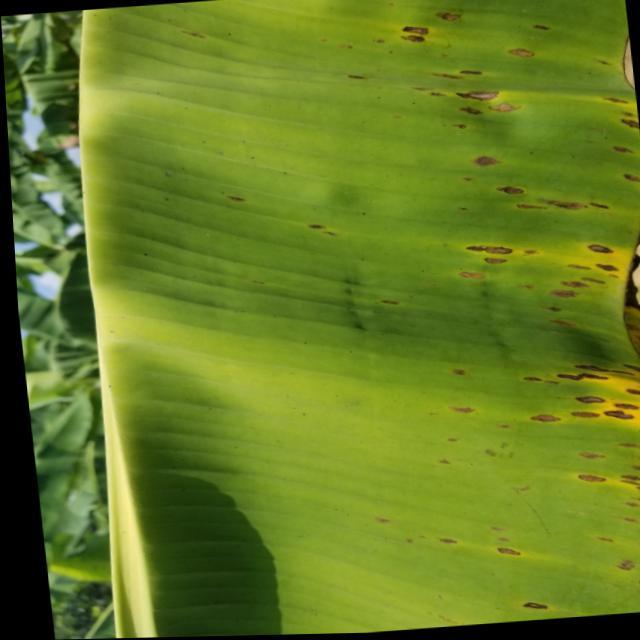Early_rust: (197, 0, 640, 640)
